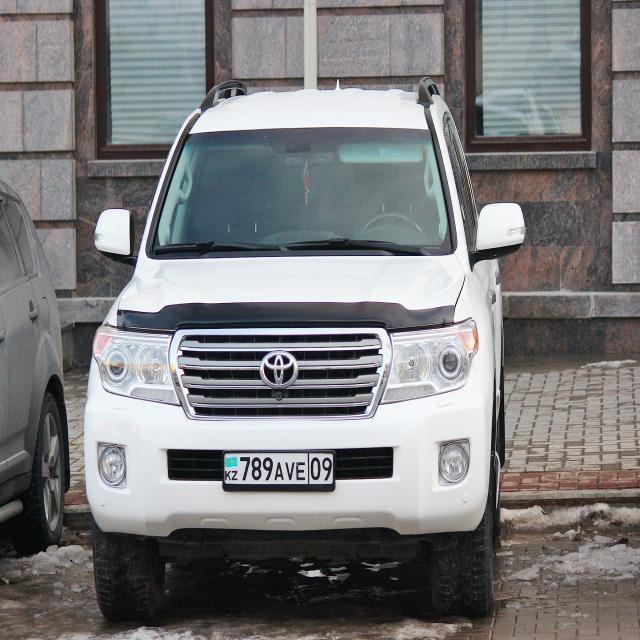car: (83, 76, 526, 624), (0, 173, 70, 552)
license: (222, 451, 335, 492)
